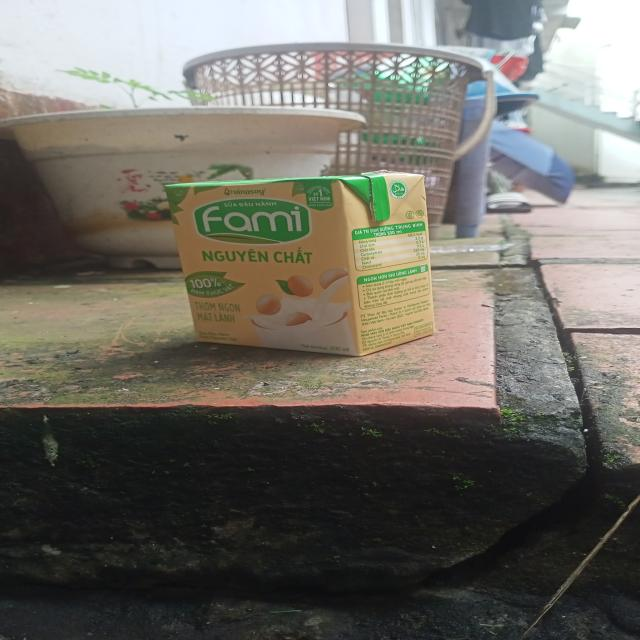Fami: (162, 173, 434, 362)
